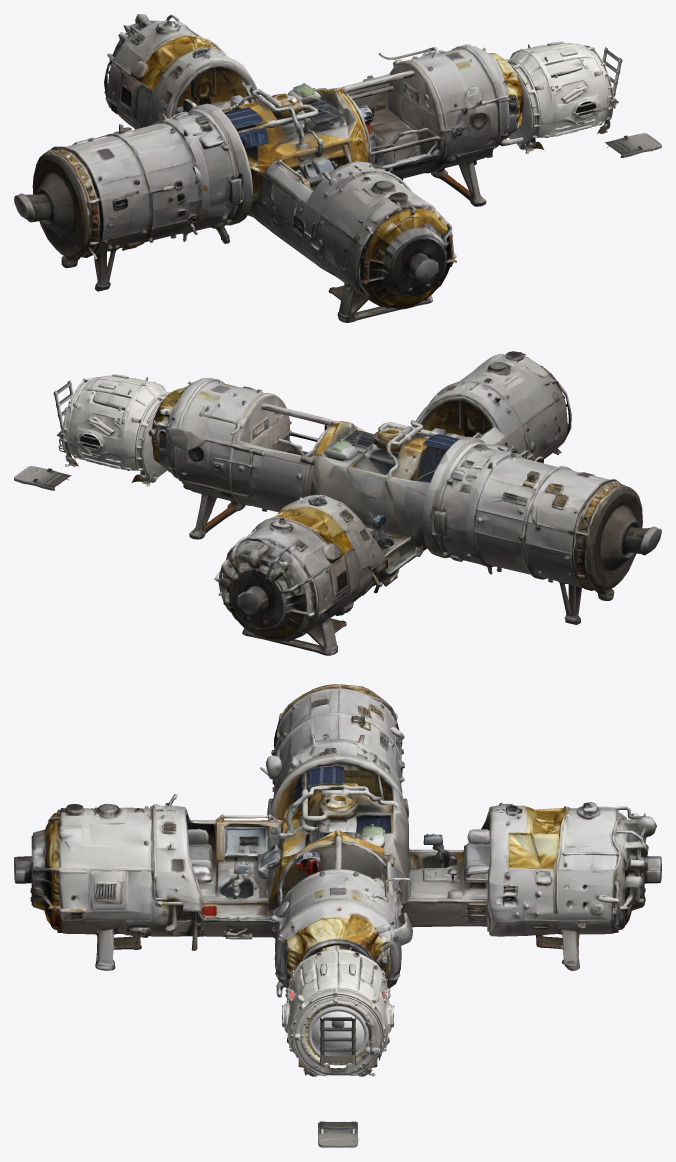
Rendered from SurfaceHabitat.glb.
3 renders of one model, top to bottom at view 1: azimuth 30°, elevation 25°; view 2: azimuth 150°, elevation 25°; view 3: azimuth 270°, elevation 25°, orthographic. The views are drawn at different scales.
Visible parts, largest first — view 1: exterior, airlock_body, landing_pad; view 2: exterior, airlock_body, landing_pad; view 3: exterior, airlock_body, hatch_door, stairs, landing_pad.
Boxes of the visible parts, bbox=[...] form: exterior: bbox=[14, 14, 523, 322]; airlock_body: bbox=[505, 41, 615, 153]; landing_pad: bbox=[604, 133, 661, 157]; exterior: bbox=[148, 351, 661, 655]; airlock_body: bbox=[58, 374, 170, 486]; landing_pad: bbox=[14, 466, 71, 490]; exterior: bbox=[14, 684, 661, 1044]; airlock_body: bbox=[282, 947, 394, 1076]; hatch_door: bbox=[307, 1005, 369, 1062]; stairs: bbox=[319, 1017, 356, 1065]; landing_pad: bbox=[318, 1121, 358, 1147].
Size of the model in its own units: 28.21 by 5.95 by 22.46.
3 materials, 3 textured.
